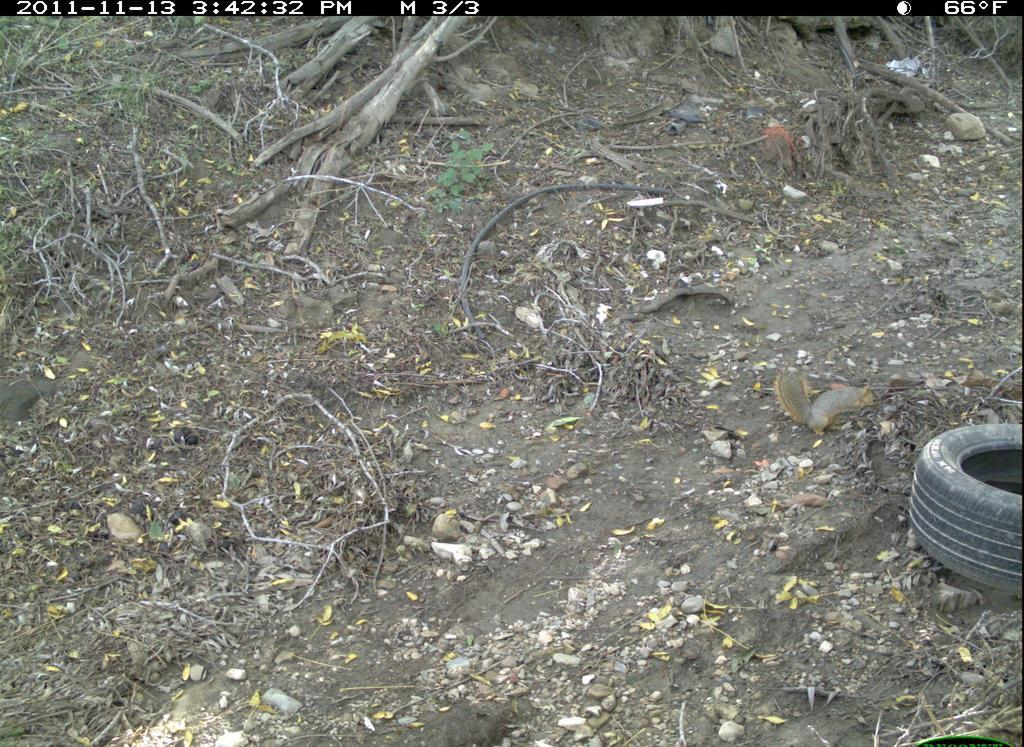squirrel: (767, 363, 889, 452)
